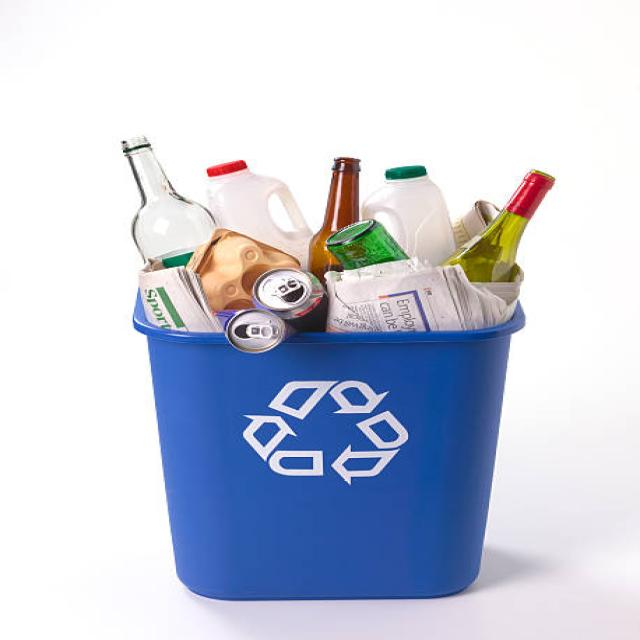glass: (112, 141, 207, 262), (460, 172, 553, 282), (299, 158, 362, 272)
metal: (211, 280, 334, 356)
plastic: (207, 160, 302, 242), (378, 158, 452, 259)
